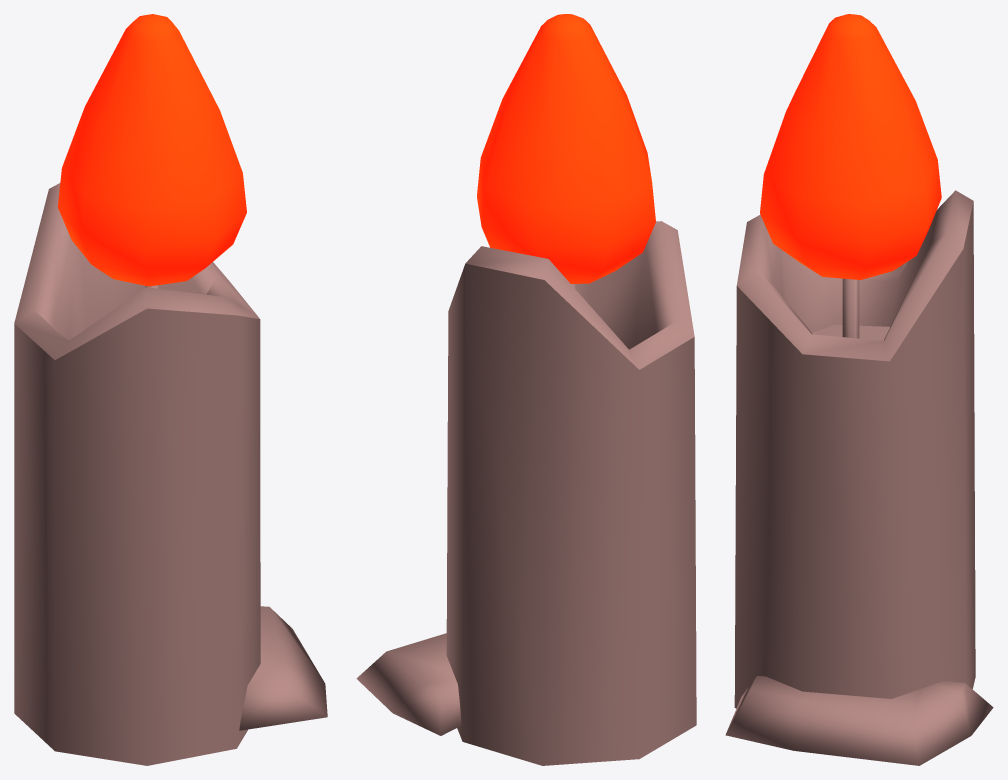
Rendered from candle_l.fbx.
3 renders of one model, left to right at view 1: azimuth 30°, elevation 25°; view 2: azimuth 150°, elevation 25°; view 3: azimuth 270°, elevation 25°, orthographic. The views are drawn at different scales.
Visible parts, largest first — view 1: Circle.073; view 2: Circle.073; view 3: Circle.073.
Boxes of the visible parts, x1=… form: Circle.073: x1=14, y1=14, x2=327, y2=765; Circle.073: x1=356, y1=14, x2=696, y2=765; Circle.073: x1=725, y1=14, x2=993, y2=765.
Bounding box in the file's own units: 19.17 × 15.74 × 43.92.
